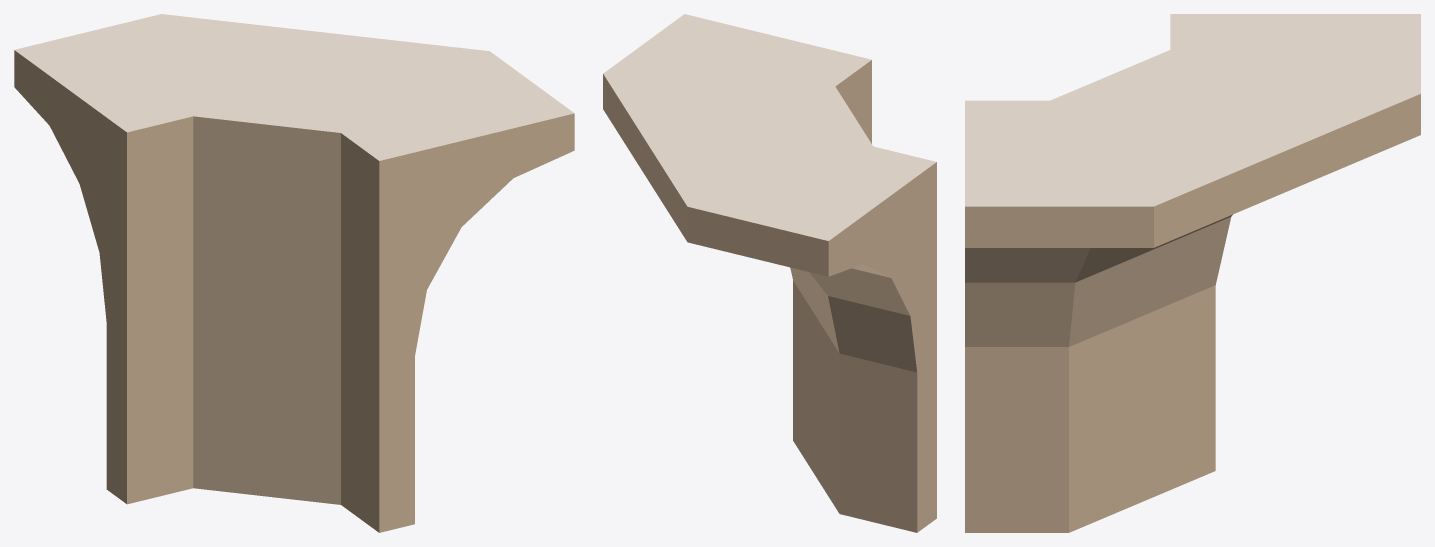
File: Wall_Arch_Corner_Outer.obj
3 renders of one model, left to right at view 1: azimuth 30°, elevation 25°; view 2: azimuth 150°, elevation 25°; view 3: azimuth 270°, elevation 25°, orthographic. The views are drawn at different scales.
Visible parts, largest first — view 1: object1; view 2: object1; view 3: object1.
Boxes of the visible parts, x1,y1,x2,y2 form: object1: (14,14,574,532); object1: (603,14,936,532); object1: (965,14,1420,532).
Size of the model in its own units: 2 by 2 by 2.
